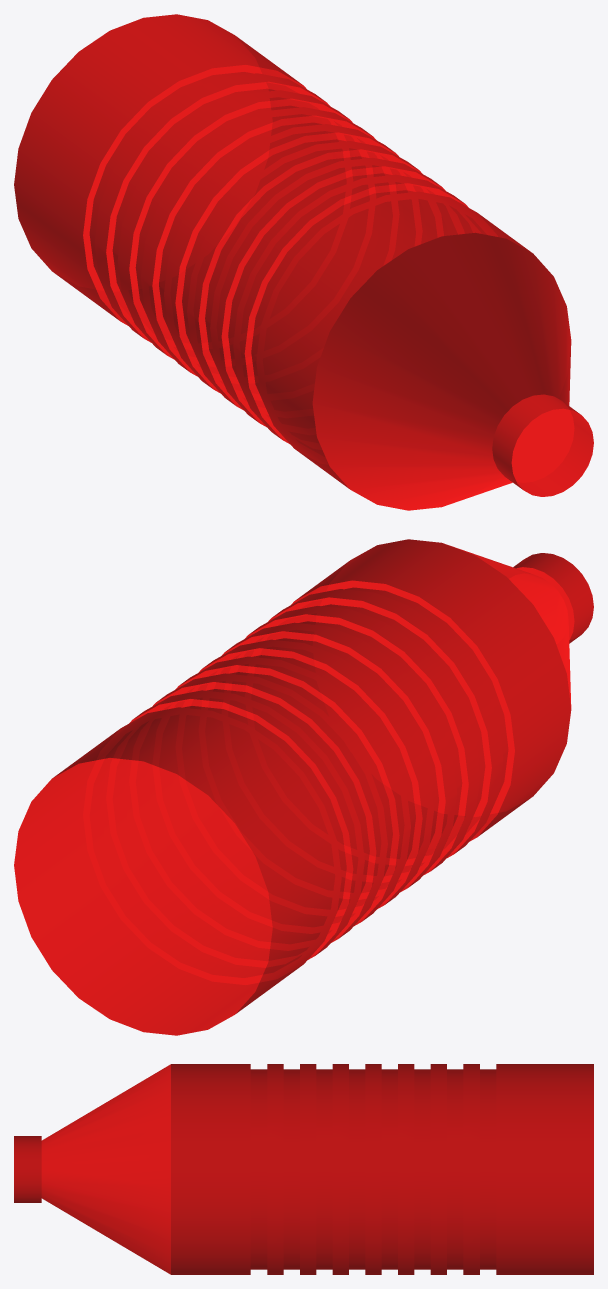
File: model_scale.obj
3 renders of one model, top to bottom at view 1: azimuth 30°, elevation 25°; view 2: azimuth 150°, elevation 25°; view 3: azimuth 270°, elevation 25°, orthographic. The views are drawn at different scales.
Visible parts, largest first — view 1: mesh1_mesh1-geometry; view 2: mesh1_mesh1-geometry; view 3: mesh1_mesh1-geometry.
Boxes of the visible parts, x1=… form: mesh1_mesh1-geometry: x1=14, y1=14, x2=593, y2=510; mesh1_mesh1-geometry: x1=14, y1=539, x2=593, y2=1035; mesh1_mesh1-geometry: x1=14, y1=1064, x2=593, y2=1274.
Size of the model in its own units: 0.0934 by 0.0934 by 0.256.
